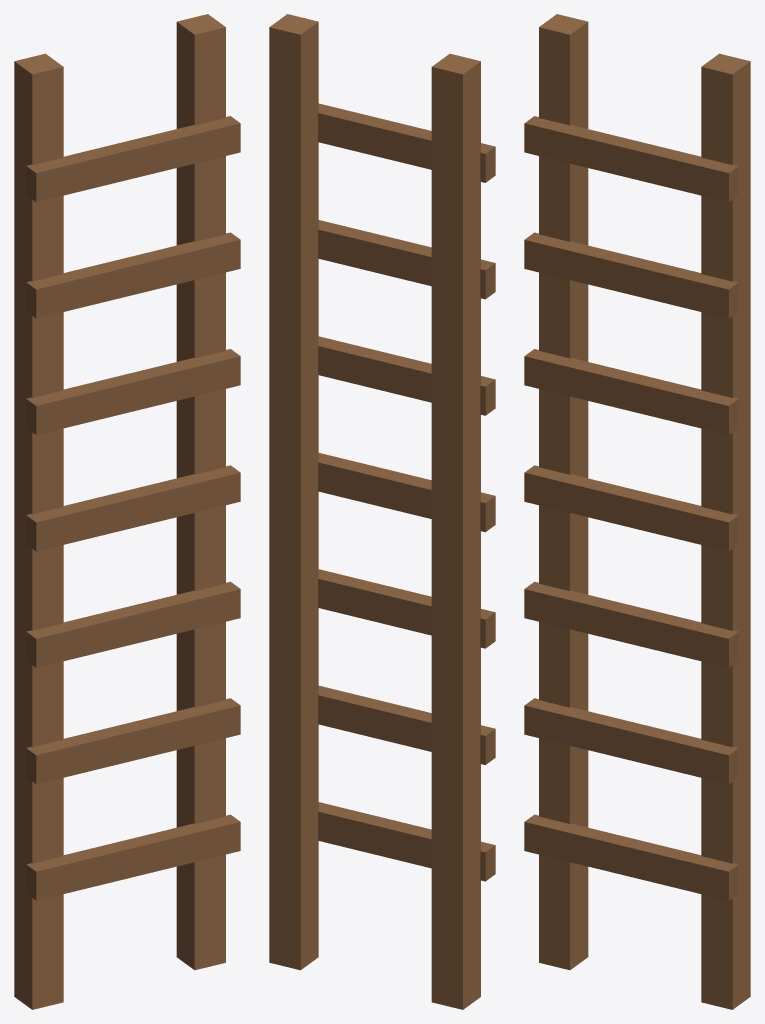
Rendered from Stairs_01.fbx.
3 renders of one model, left to right at view 1: azimuth 30°, elevation 25°; view 2: azimuth 150°, elevation 25°; view 3: azimuth 330°, elevation 25°, orthographic.
Parts seen in each view (by area): view 1: Stairs_01; view 2: Stairs_01; view 3: Stairs_01.
Part boxes in pixels (x1,y1,x2,y2): Stairs_01: (14,14,240,1009); Stairs_01: (269,14,495,1009); Stairs_01: (524,14,750,1009).
Size of the model in its own units: 1.25 by 5.47 by 0.2884.
